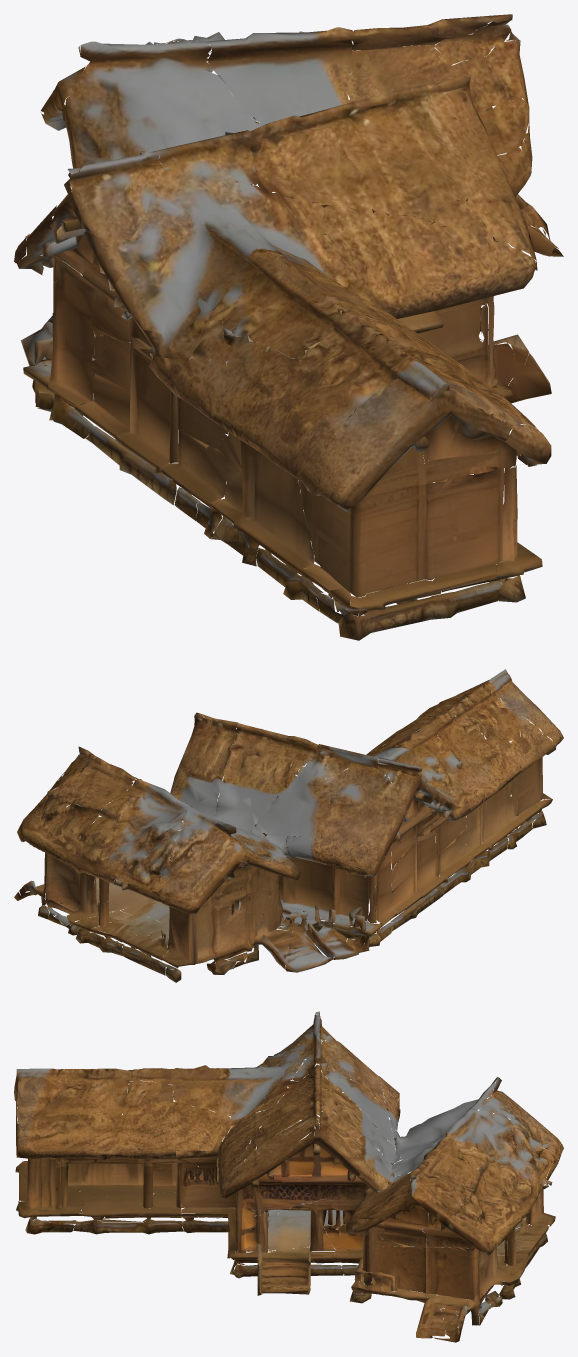
The model's file is house.glb.
3 views of the same model, one above another, from view 1: azimuth 30°, elevation 25°; view 2: azimuth 150°, elevation 25°; view 3: azimuth 270°, elevation 25° (orthographic). The views are drawn at different scales.
Visible parts, largest first — view 1: Supplied house; view 2: Supplied house; view 3: Supplied house.
Boxes of the visible parts, bbox=[...] form: Supplied house: bbox=[14, 14, 563, 640]; Supplied house: bbox=[14, 669, 563, 982]; Supplied house: bbox=[14, 1011, 563, 1342].
Bounding box in the file's own units: 0.7245 × 0.3389 × 1.
Materials: 1 (1 with a texture image).
